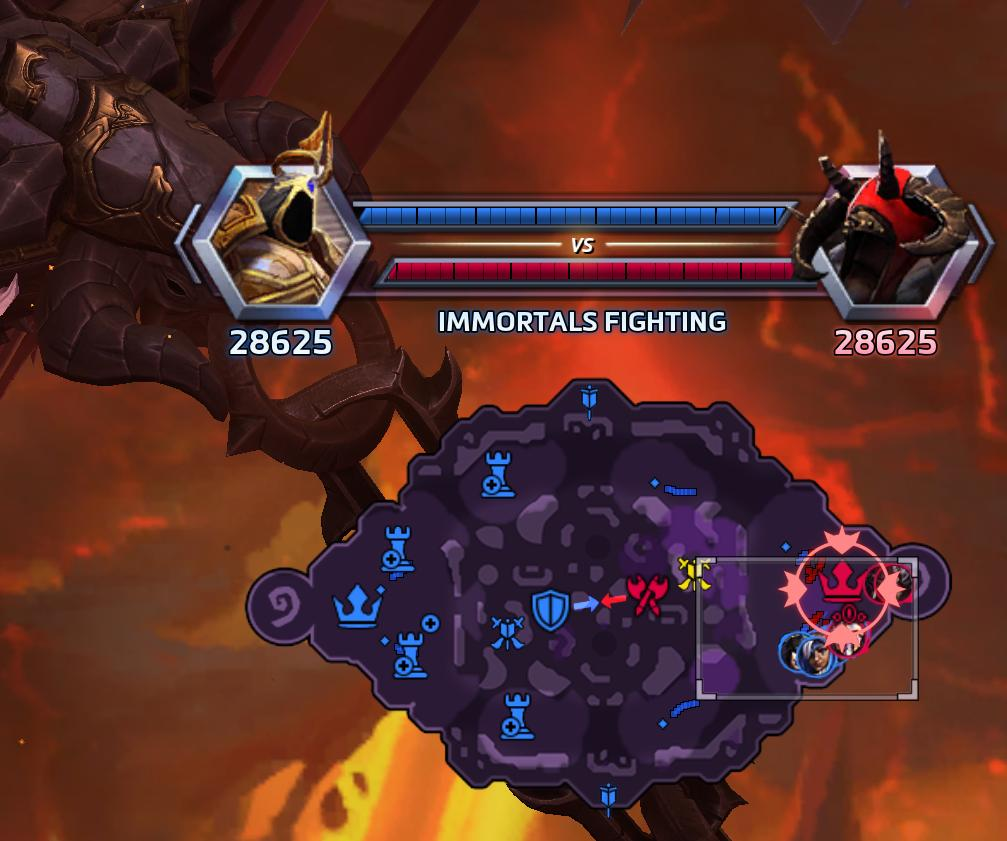blue player: (778, 629, 835, 678)
red player: (824, 604, 871, 661), (866, 562, 912, 605)
